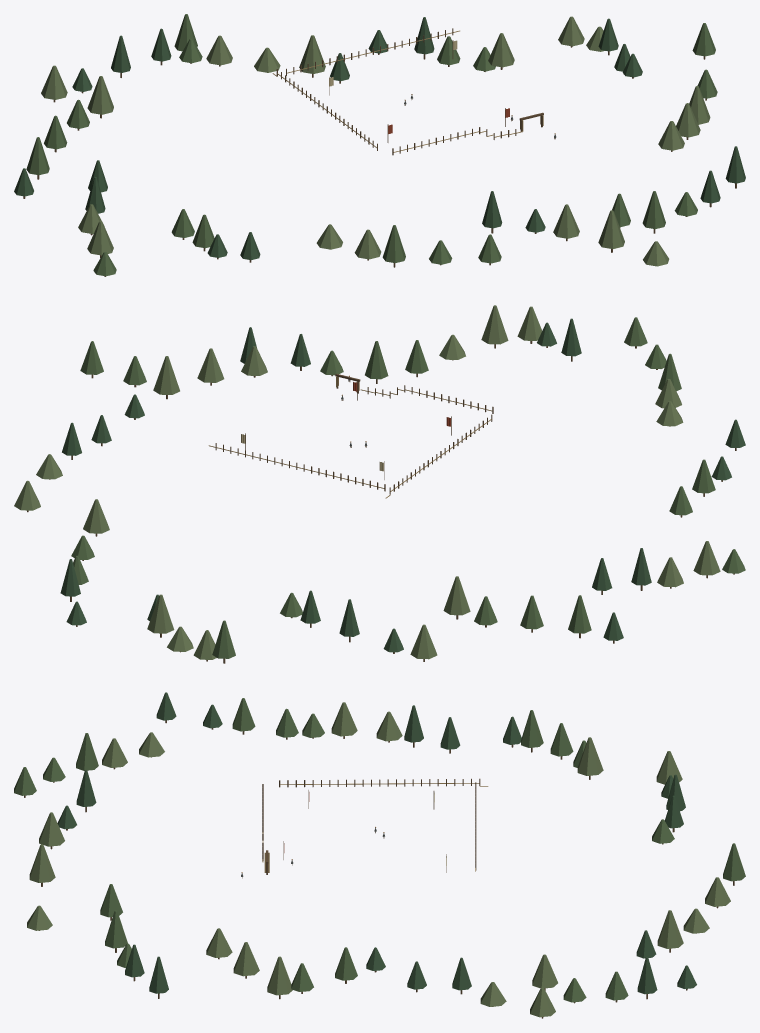
File: landscape.glb
3 renders of one model, top to bottom at view 1: azimuth 30°, elevation 25°; view 2: azimuth 150°, elevation 25°; view 3: azimuth 270°, elevation 25°, orthographic.
Parts seen in each view (by area): view 1: sc-vegetation.186, sc-vegetation.210, sc-vegetation.162, sc-vegetation.168, sc-vegetation.240, sc-vegetation.144, sc-vegetation.216, sc-vegetation.202, sc-vegetation.154, sc-vegetation.226, sc-vegetation.192, sc-vegetation.198 (+12 smaller); view 2: sc-vegetation.186, sc-vegetation.162, sc-vegetation.210, sc-vegetation.234; view 3: sc-vegetation.162, sc-vegetation.210, sc-vegetation.186, sc-vegetation.234, sc-vegetation.216, sc-vegetation.144, sc-vegetation.192, sc-vegetation.240, sc-vegetation.202, sc-vegetation.154, sc-vegetation.178, sc-vegetation.226.
Part boxes in pixels (x1,y1,x2,y2): sc-vegetation.186: (598, 210, 624, 248); sc-vegetation.210: (87, 76, 113, 114); sc-vegetation.162: (299, 35, 325, 73); sc-vegetation.168: (41, 65, 67, 99); sc-vegetation.240: (488, 33, 514, 67); sc-vegetation.144: (553, 204, 579, 238); sc-vegetation.216: (87, 221, 113, 255); sc-vegetation.202: (642, 191, 665, 229); sc-vegetation.154: (382, 225, 405, 263); sc-vegetation.226: (26, 137, 49, 175); sc-vegetation.192: (676, 103, 700, 137); sc-vegetation.198: (558, 16, 584, 46); sc-vegetation.186: (481, 305, 508, 344); sc-vegetation.162: (147, 594, 174, 633); sc-vegetation.210: (443, 576, 470, 615); sc-vegetation.234: (153, 356, 179, 394); sc-vegetation.162: (657, 910, 683, 948); sc-vegetation.210: (577, 737, 603, 775); sc-vegetation.186: (29, 844, 55, 882); sc-vegetation.234: (267, 956, 292, 995); sc-vegetation.216: (331, 702, 357, 736); sc-vegetation.144: (39, 812, 64, 846); sc-vegetation.192: (233, 942, 259, 976); sc-vegetation.240: (532, 954, 557, 988); sc-vegetation.202: (105, 910, 127, 948); sc-vegetation.154: (76, 733, 98, 770); sc-vegetation.178: (723, 843, 745, 881); sc-vegetation.226: (521, 710, 543, 747).
Bounding box in the file's own units: 176 × 34.01 × 176.
